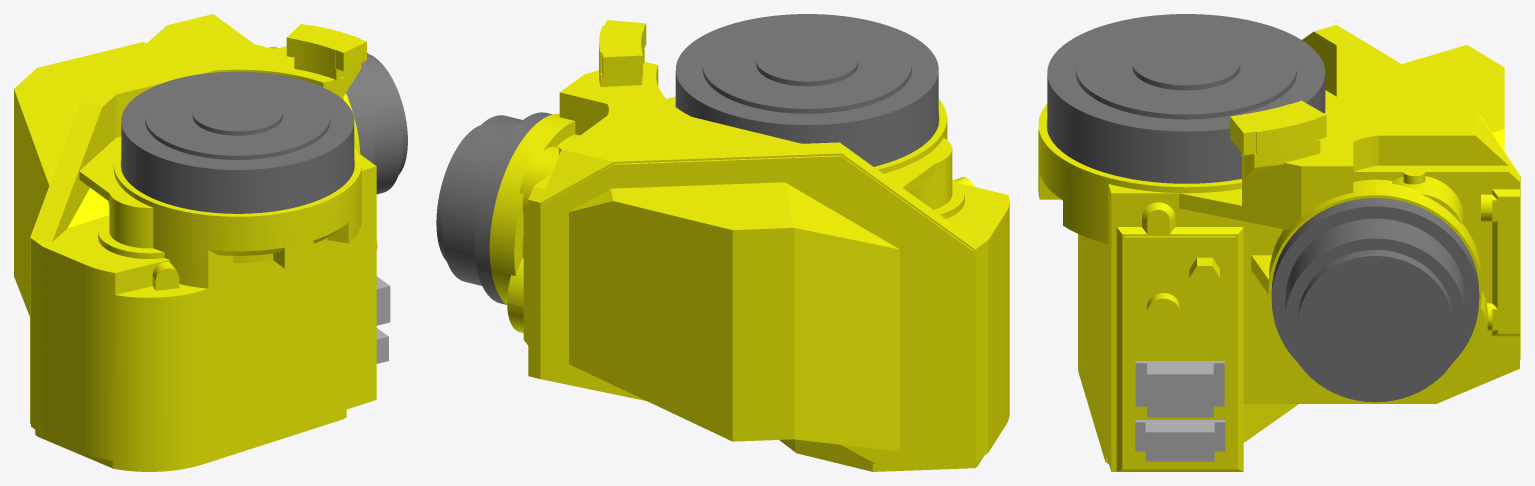
3 renders of one model, left to right at view 1: azimuth 30°, elevation 25°; view 2: azimuth 150°, elevation 25°; view 3: azimuth 270°, elevation 25°, orthographic. The views are drawn at different scales.
Parts seen in each view (by area): view 1: Mesh_0; view 2: Mesh_0; view 3: Mesh_0.
Boxes of the visible parts, left/top/right/bottom form: Mesh_0: left=14, top=14, right=407, bottom=471; Mesh_0: left=436, top=14, right=1009, bottom=471; Mesh_0: left=1038, top=14, right=1520, bottom=471.
Bounding box in the file's own units: 0.4887 × 0.3743 × 0.4335.
